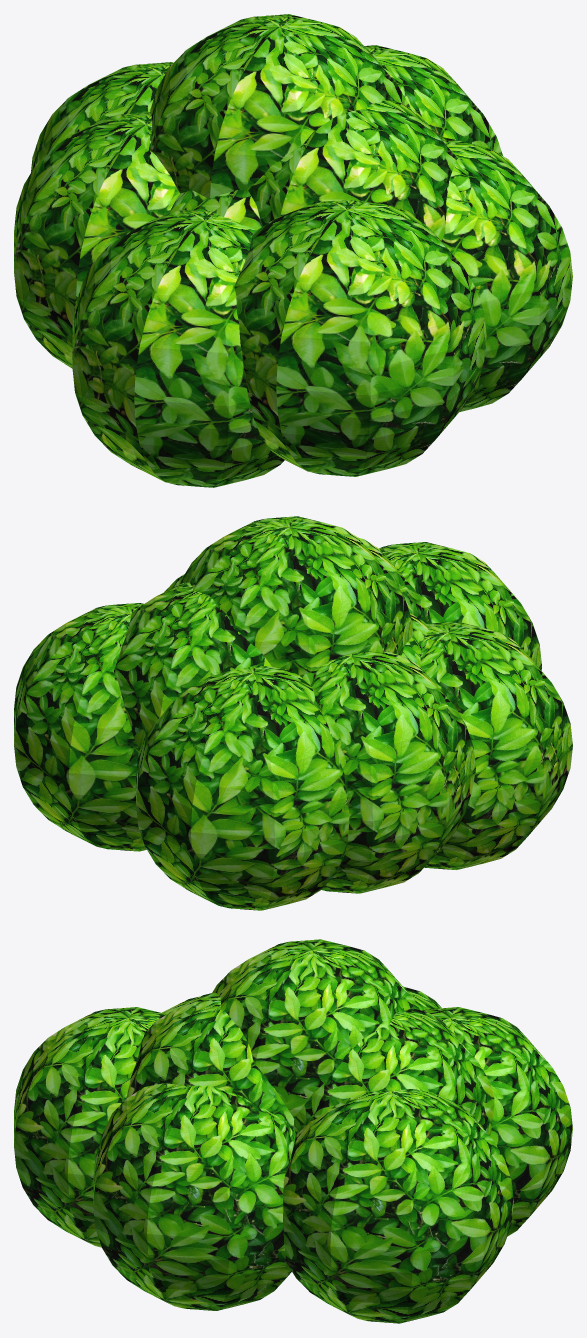
Rendered from bush 2.fbx.
3 renders of one model, top to bottom at view 1: azimuth 30°, elevation 25°; view 2: azimuth 150°, elevation 25°; view 3: azimuth 270°, elevation 25°, orthographic. The views are drawn at different scales.
Visible parts, largest first — view 1: Sphere.001, Sphere.008, Sphere.007, Sphere.009, Sphere.002, Sphere.005, Sphere.004, Sphere.003, Sphere; view 2: Sphere.003, Sphere.009, Sphere.007, Sphere.004, Sphere.008, Sphere.006, Sphere.001, Sphere.005, Sphere; view 3: Sphere.004, Sphere.002, Sphere.007, Sphere.001, Sphere.003, Sphere.006, Sphere.005.
Boxes of the visible parts, x1,y1,x2,y2 form: Sphere.001: (234, 200, 486, 476); Sphere.008: (72, 210, 284, 487); Sphere.007: (150, 14, 410, 198); Sphere.009: (14, 112, 179, 368); Sphere.002: (439, 136, 572, 411); Sphere.005: (248, 100, 457, 240); Sphere.004: (364, 45, 502, 155); Sphere.003: (31, 62, 173, 172); Sphere: (169, 190, 262, 230); Sphere.003: (136, 665, 349, 910); Sphere.009: (300, 651, 475, 893); Sphere.007: (179, 516, 413, 675); Sphere.004: (14, 603, 146, 851); Sphere.008: (420, 621, 572, 869); Sphere.006: (114, 582, 271, 750); Sphere.001: (379, 542, 541, 670); Sphere.005: (358, 537, 421, 618); Sphere: (401, 613, 428, 666); Sphere.004: (283, 1089, 513, 1323); Sphere.002: (93, 1083, 295, 1310); Sphere.007: (212, 939, 419, 1118); Sphere.001: (14, 1007, 166, 1247); Sphere.003: (422, 1007, 572, 1236); Sphere.006: (293, 1008, 494, 1135); Sphere.005: (126, 992, 294, 1127).
Bounding box in the file's own units: 410 × 298 × 457.
Materials: 1 (1 with a texture image).
